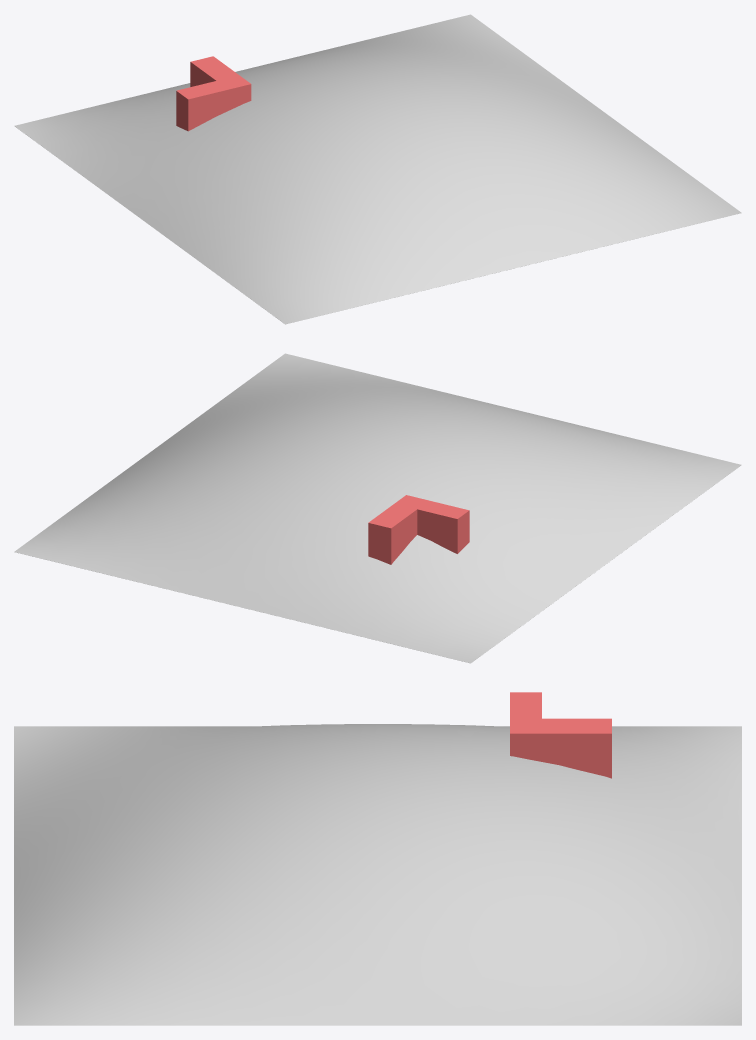
3 views of the same model, one above another, from view 1: azimuth 30°, elevation 25°; view 2: azimuth 150°, elevation 25°; view 3: azimuth 270°, elevation 25° (orthographic). The views are drawn at different scales.
Size of the model in its own units: 51.41 by 7.36 by 52.86.
